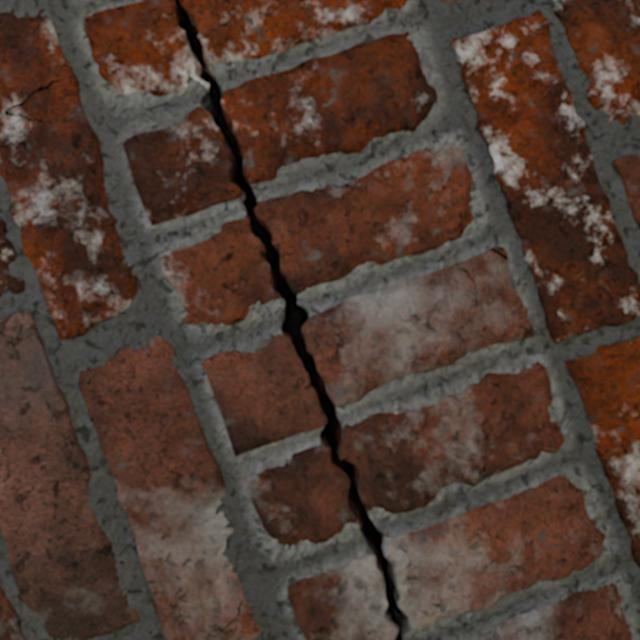broken_brick: (302, 250, 533, 406), (383, 476, 604, 631), (339, 363, 563, 513), (255, 139, 473, 293), (221, 32, 436, 183), (201, 334, 326, 455), (181, 0, 405, 65), (123, 107, 240, 224), (159, 218, 280, 325), (83, 0, 198, 96), (249, 445, 356, 547), (288, 555, 397, 639), (487, 583, 631, 639), (494, 247, 507, 256)
crack: (172, 0, 410, 639), (451, 11, 639, 343), (78, 336, 259, 639), (0, 310, 138, 639), (0, 9, 137, 339), (565, 337, 639, 566), (552, 0, 639, 124), (613, 154, 639, 227), (0, 219, 24, 296), (0, 586, 24, 639), (459, 268, 477, 306), (490, 248, 507, 260), (440, 0, 461, 3)
